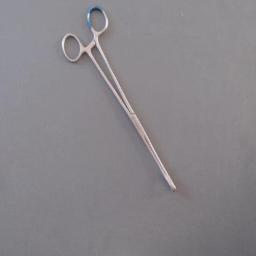Sponge Forceps: (58, 0, 182, 198)
